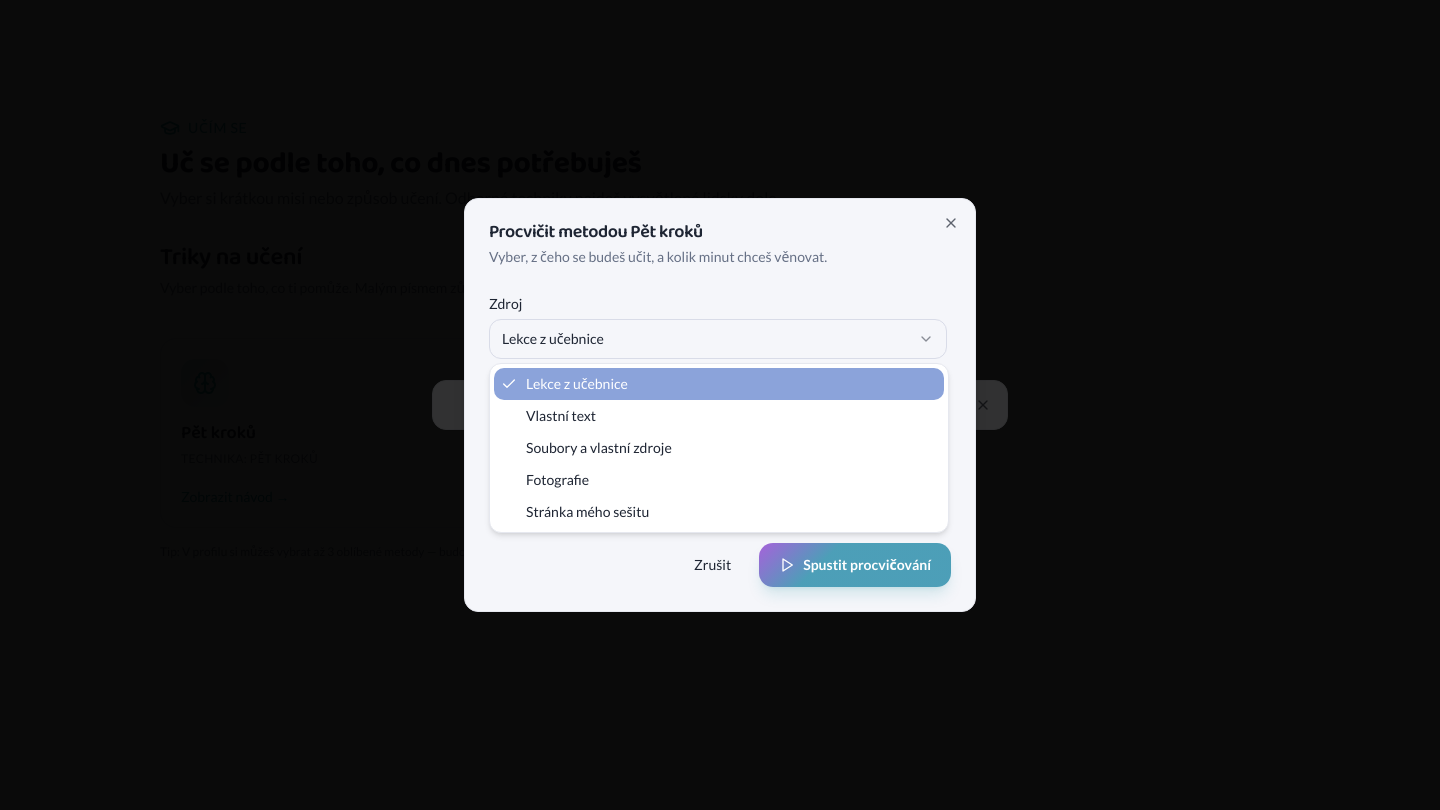
Výběr sešitu a stránky při procvičování › u sedmi a méně položek ponechá původní jednoduchý výběr
This screenshot has width=1440, height=810.
Earlier steps of the test are not shown.
Click the option "Stránka mého sešitu" at [588, 512], box [526,503,649,520]
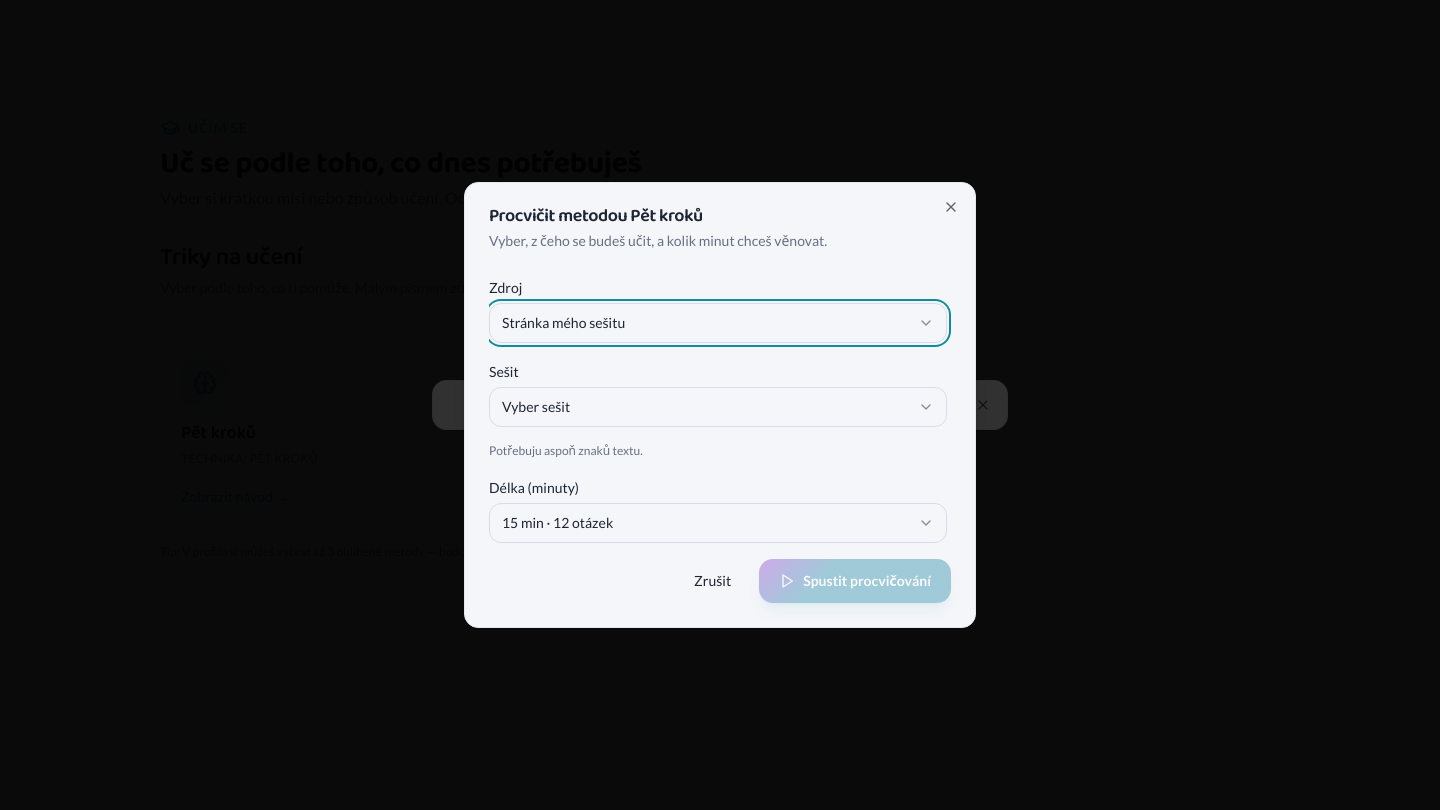
Check: the dropdown labelled "sešit" is shown, box [489,387,947,427]
